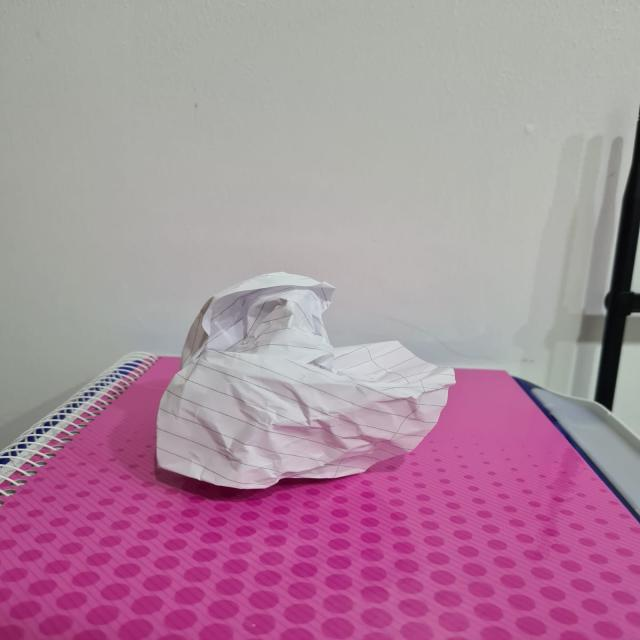Paper: (152, 270, 455, 490)
